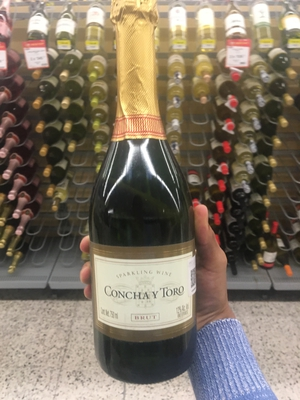brut: (82, 10, 205, 381)
